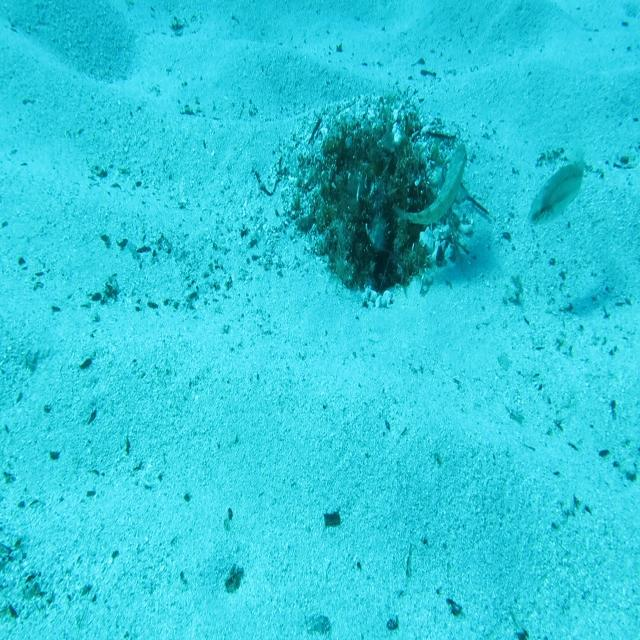ROLL: (390, 138, 470, 234)
core_nest: (348, 146, 390, 174)
female: (527, 136, 585, 230)
nest: (274, 87, 476, 323)
vegetation: (322, 508, 342, 528)
